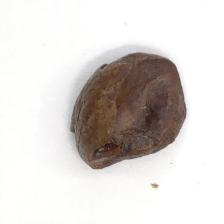NG: (123, 60, 181, 154), (67, 125, 108, 171)
